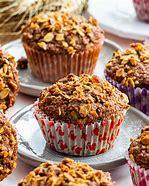muffin: (33, 73, 126, 156), (23, 6, 105, 77), (108, 41, 149, 108)
